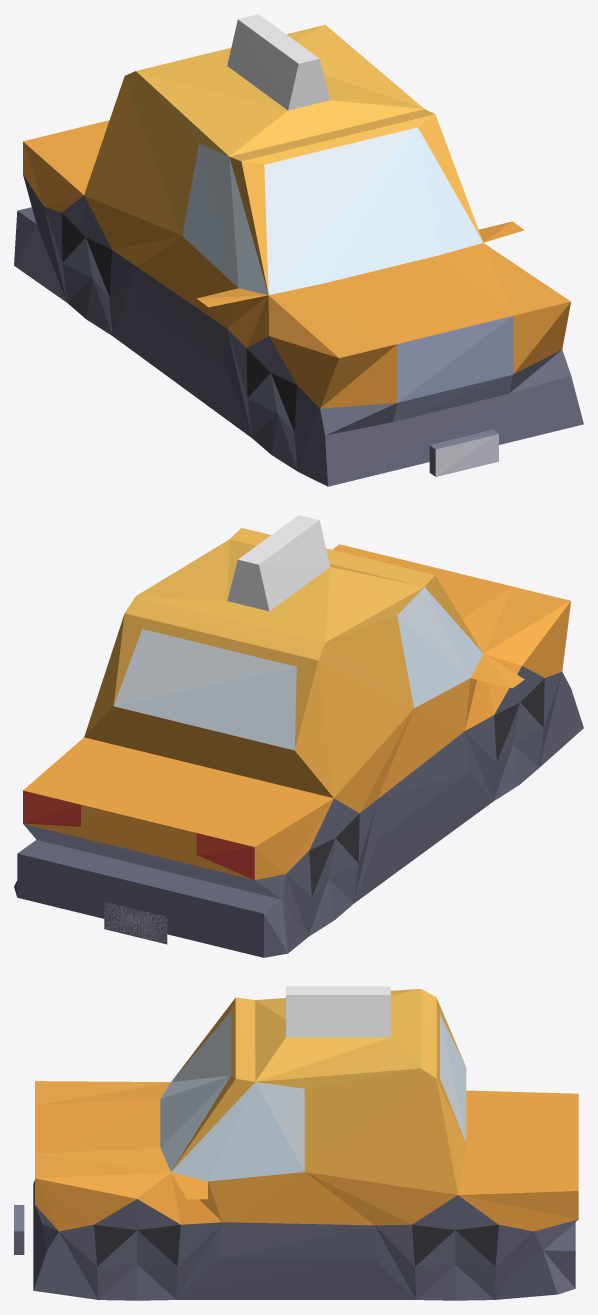
File: taxi_vita.obj
3 views of the same model, one above another, from view 1: azimuth 30°, elevation 25°; view 2: azimuth 150°, elevation 25°; view 3: azimuth 270°, elevation 25° (orthographic). The views are drawn at different scales.
Size of the model in its own units: 1.5 by 1.47 by 2.73.
1 material, 1 textured.
